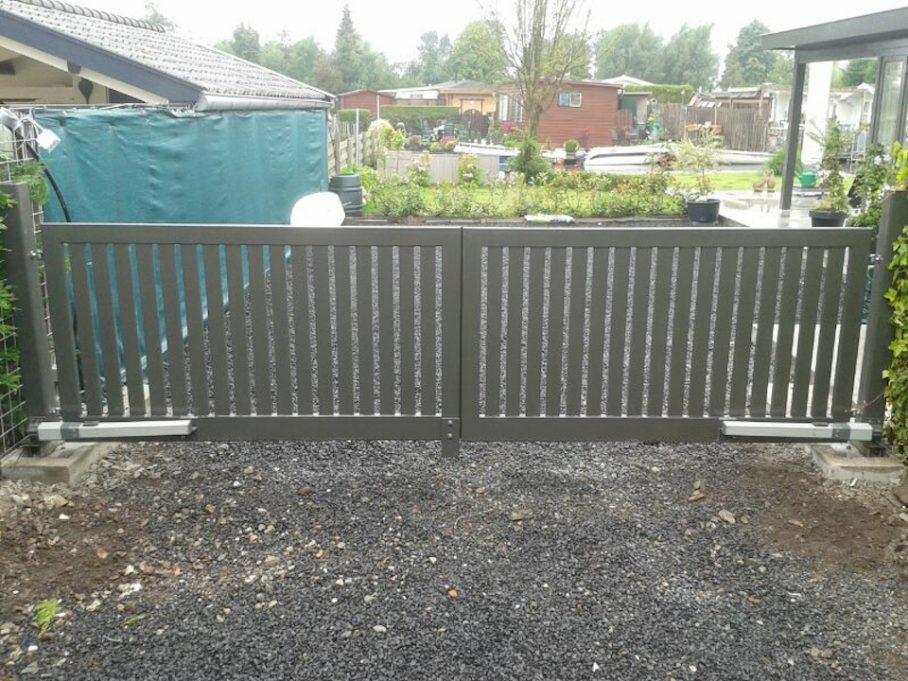obstacle: (203, 44, 908, 681)
